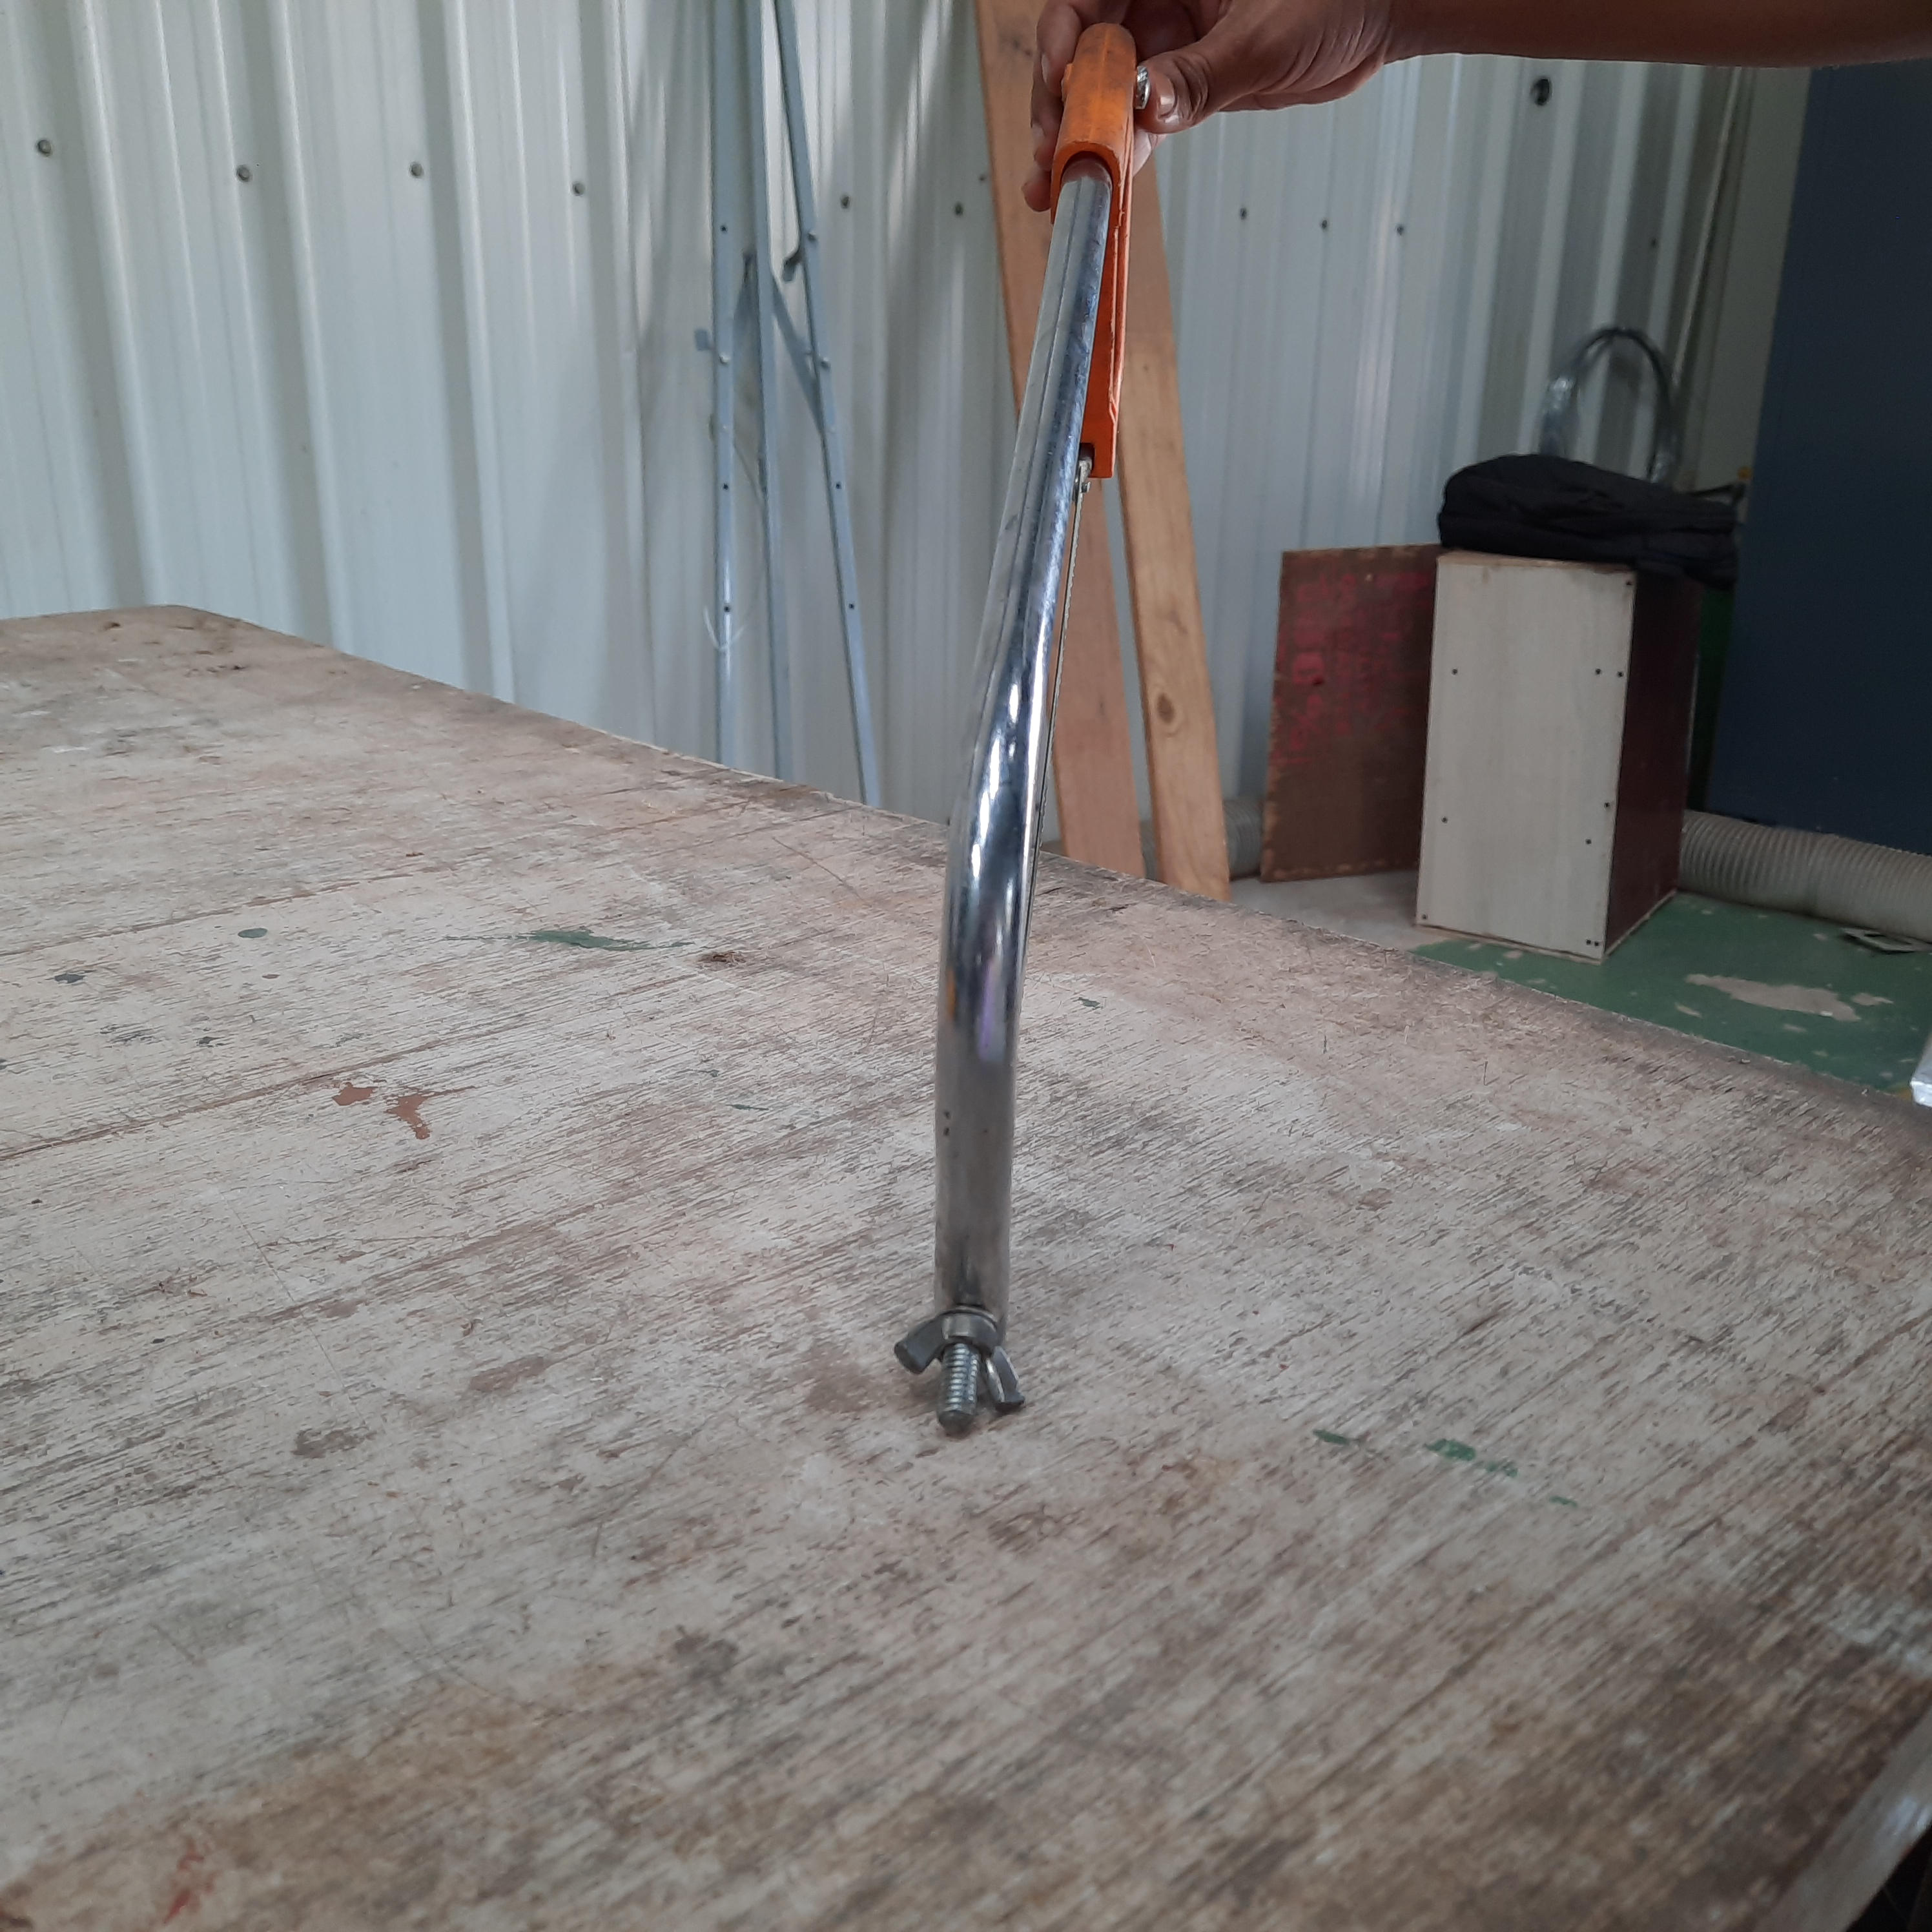Hexaframe: (872, 14, 1286, 1555)
